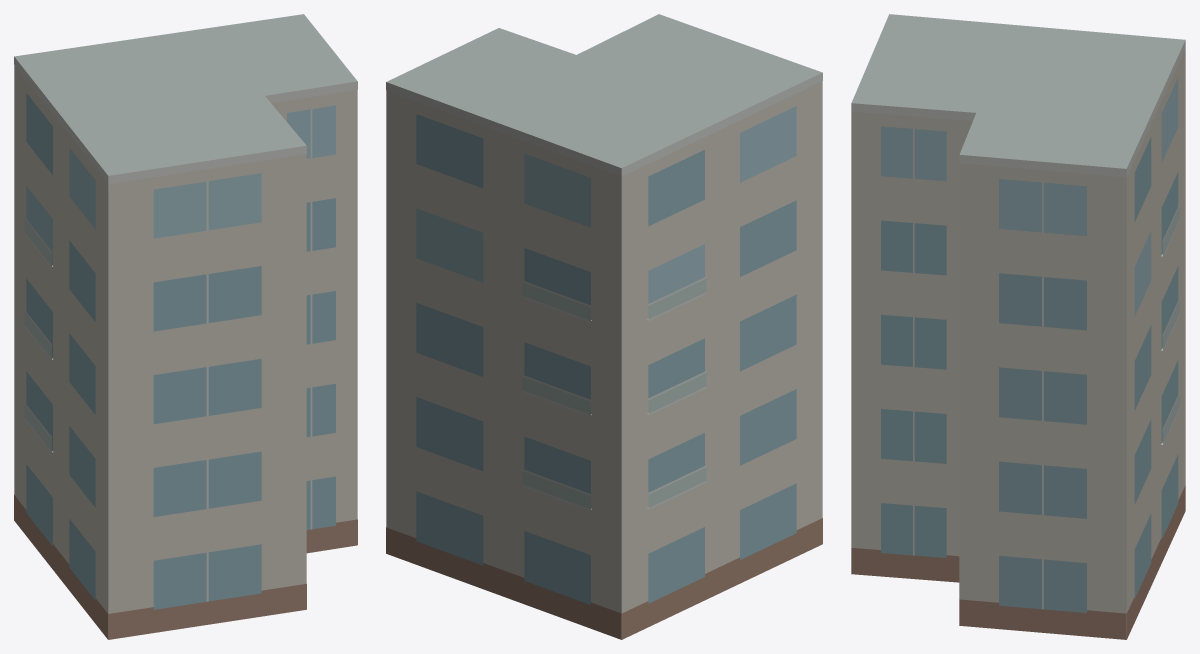
File: survey-upis-32775580.glb
3 views of the same model, side by side, from view 1: azimuth 30°, elevation 25°; view 2: azimuth 150°, elevation 25°; view 3: azimuth 270°, elevation 25° (orthographic).
Visible parts, largest first — view 1: survey-upis-32775580.tmp; view 2: survey-upis-32775580.tmp; view 3: survey-upis-32775580.tmp.
Boxes of the visible parts, x1,y1,x2,y2 form: survey-upis-32775580.tmp: [14, 14, 357, 639]; survey-upis-32775580.tmp: [386, 14, 822, 639]; survey-upis-32775580.tmp: [851, 14, 1185, 639].
Size of the model in its own units: 9.67 by 13.7 by 8.82.
